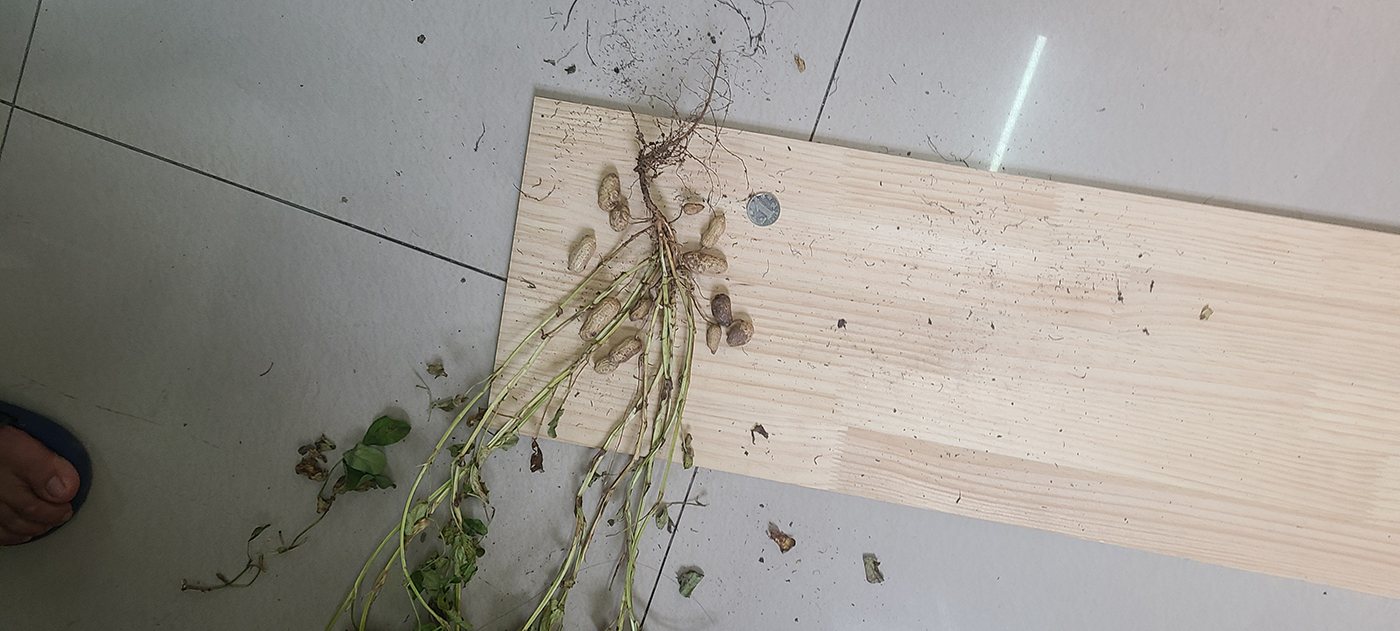h: (595, 336, 642, 374), (580, 297, 621, 340), (683, 251, 728, 275), (567, 236, 596, 273), (598, 173, 621, 210), (701, 215, 726, 248), (629, 298, 655, 322), (610, 205, 631, 231), (705, 326, 722, 355)
l: (726, 322, 755, 347), (712, 294, 733, 327)
